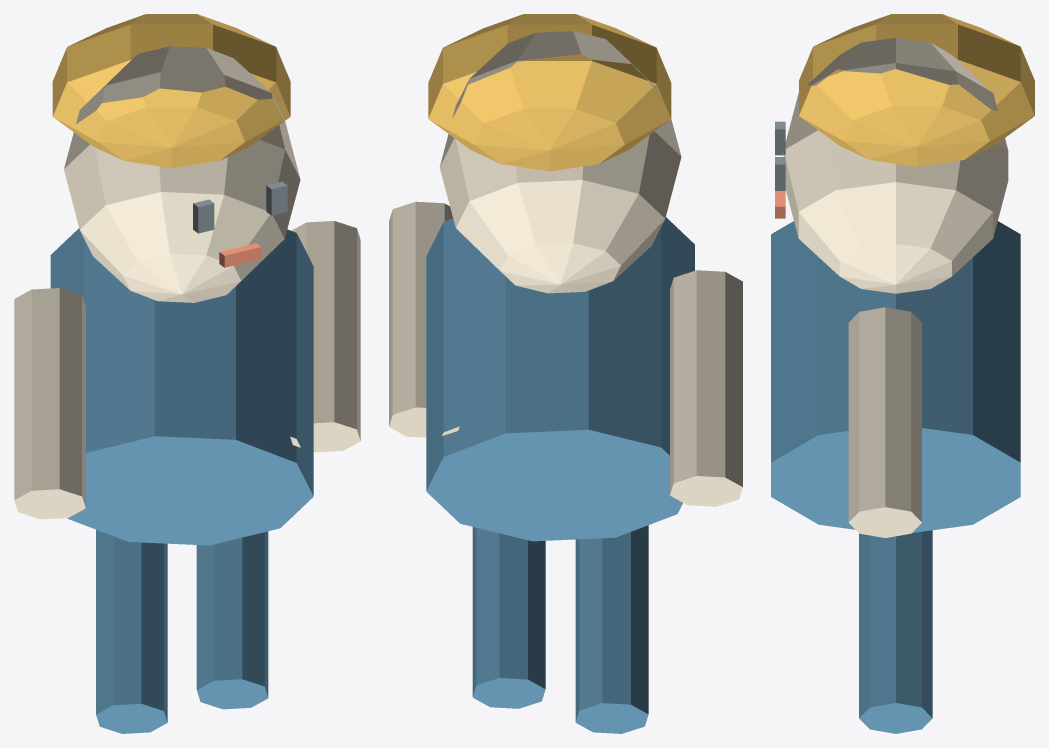
Rendered from guest_blue.glb.
3 renders of one model, left to right at view 1: azimuth 30°, elevation 25°; view 2: azimuth 150°, elevation 25°; view 3: azimuth 270°, elevation 25°, orthographic. The views are drawn at different scales.
Parts seen in each view (by area): view 1: guest_blue; view 2: guest_blue; view 3: guest_blue.
Part boxes in pixels (x1,y1,x2,y2): guest_blue: (14,14,360,733); guest_blue: (389,14,742,733); guest_blue: (771,14,1034,733).
Bounding box in the file's own units: 0.74 × 1.39 × 0.5026.
